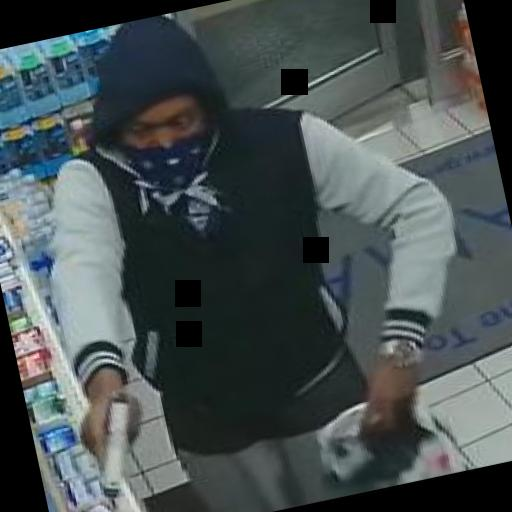Handgun: (69, 385, 160, 507)
